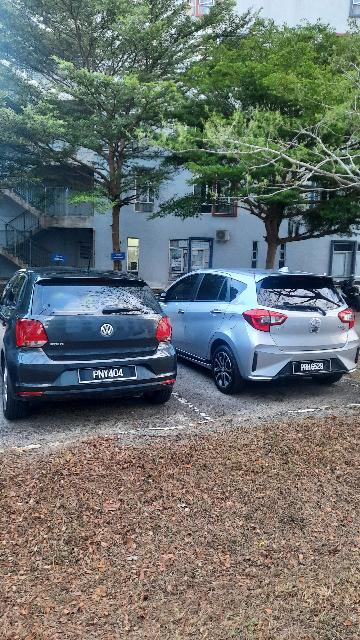License_Plate: (78, 363, 143, 386), (293, 359, 335, 375)
car: (1, 262, 185, 417), (152, 265, 360, 393)
